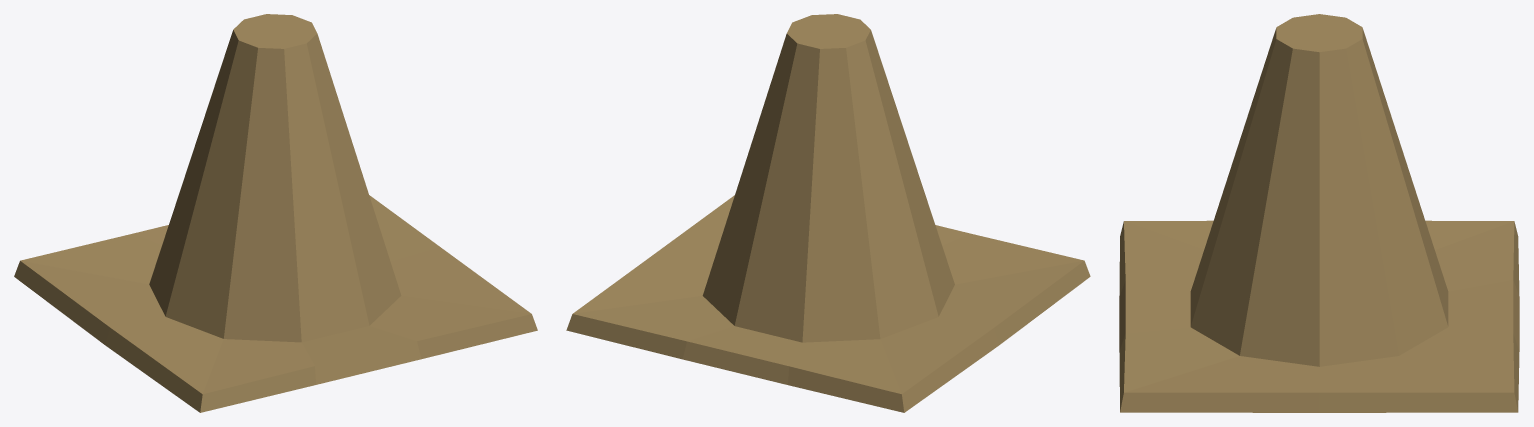
File: Cone_Signaling.fbx
3 views of the same model, side by side, from view 1: azimuth 30°, elevation 25°; view 2: azimuth 150°, elevation 25°; view 3: azimuth 270°, elevation 25° (orthographic). The views are drawn at different scales.
Visible parts, largest first — view 1: Cone_Signaling; view 2: Cone_Signaling; view 3: Cone_Signaling.
Part boxes in pixels (x1,y1,x2,y2): Cone_Signaling: [14, 14, 537, 412]; Cone_Signaling: [566, 14, 1090, 412]; Cone_Signaling: [1119, 14, 1519, 412].
Bounding box in the file's own units: 22.55 × 17.22 × 21.45.
